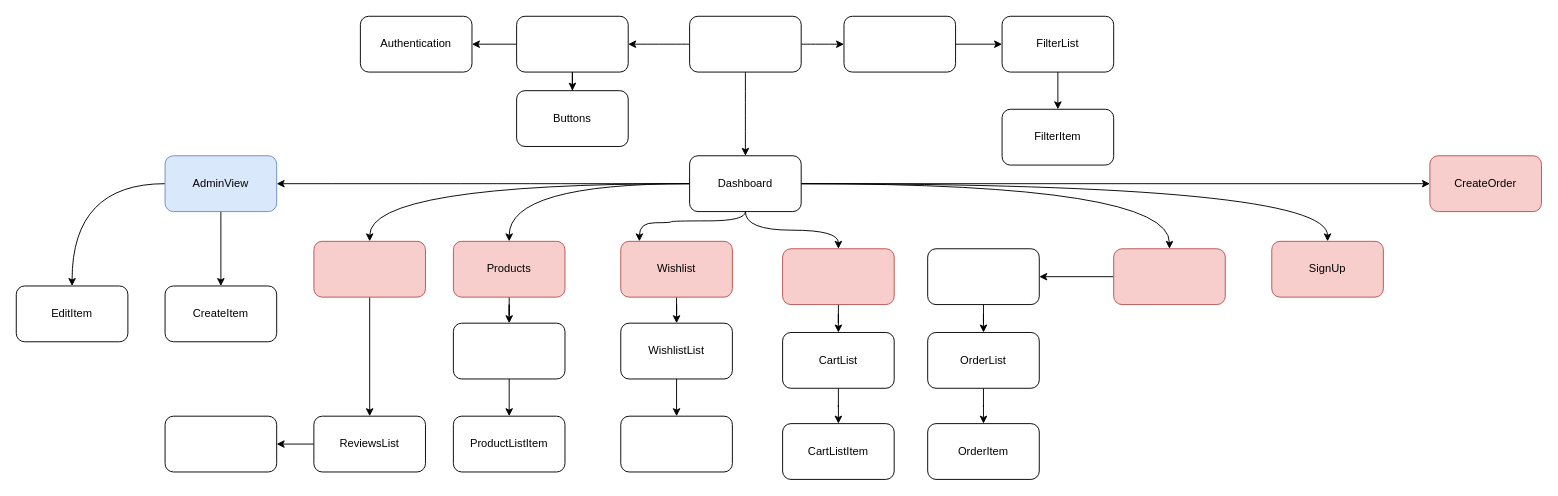
This 1558x496 diagram has some shape labels left out. The shapes that lost their labels are listed below. From the top down, each one's box as (x1, y1, x2, y2) in pixels, then its label:
(516, 15, 628, 72): Header
(689, 15, 801, 72): App
(843, 15, 956, 72): FilterMenu
(313, 240, 425, 297): ProductView
(782, 248, 894, 305): Cart
(927, 248, 1039, 305): OrderHistory
(1113, 248, 1225, 305): ViewProfile
(452, 322, 565, 379): ProductList
(164, 415, 277, 472): NewReview
(620, 415, 732, 472): WishlistListItem
